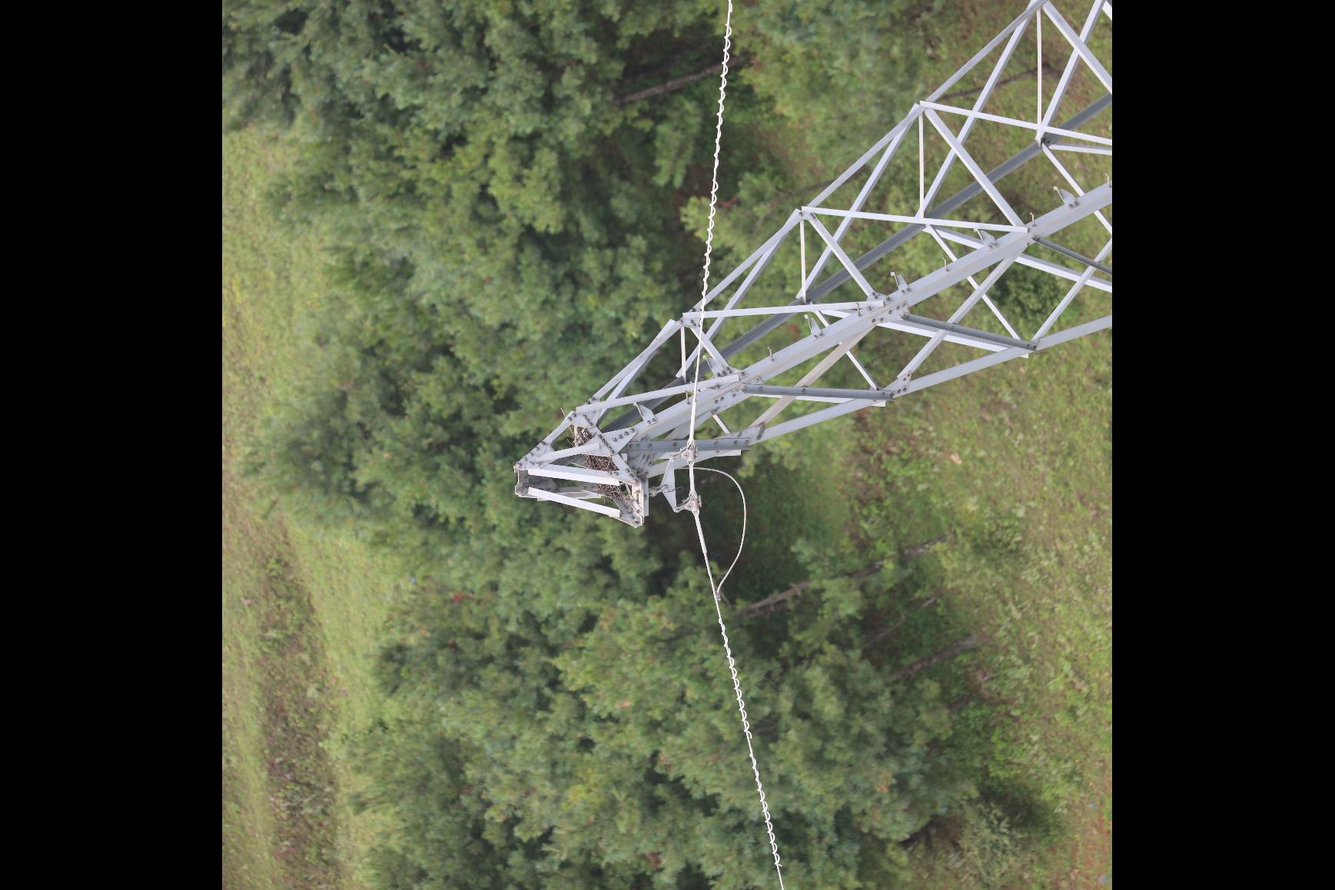nest: (583, 453, 626, 504)
